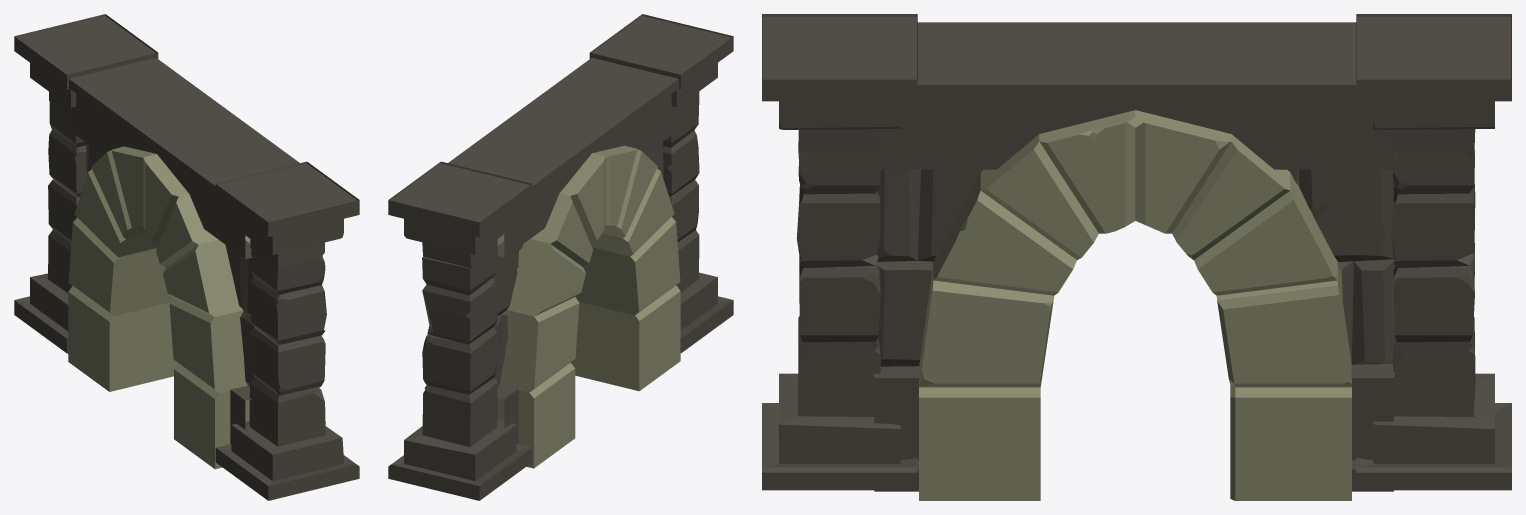
Rendered from Door.fbx.
3 views of the same model, side by side, from view 1: azimuth 30°, elevation 25°; view 2: azimuth 150°, elevation 25°; view 3: azimuth 270°, elevation 25° (orthographic). The views are drawn at different scales.
Parts seen in each view (by area): view 1: Pillar.003; view 2: Pillar.003; view 3: Pillar.003.
Boxes of the visible parts, <box> form: Pillar.003: <box>14,14,359,500</box>; Pillar.003: <box>388,14,733,500</box>; Pillar.003: <box>762,14,1511,500</box>.
Bounding box in the file's own units: 256 × 764 × 1232.
